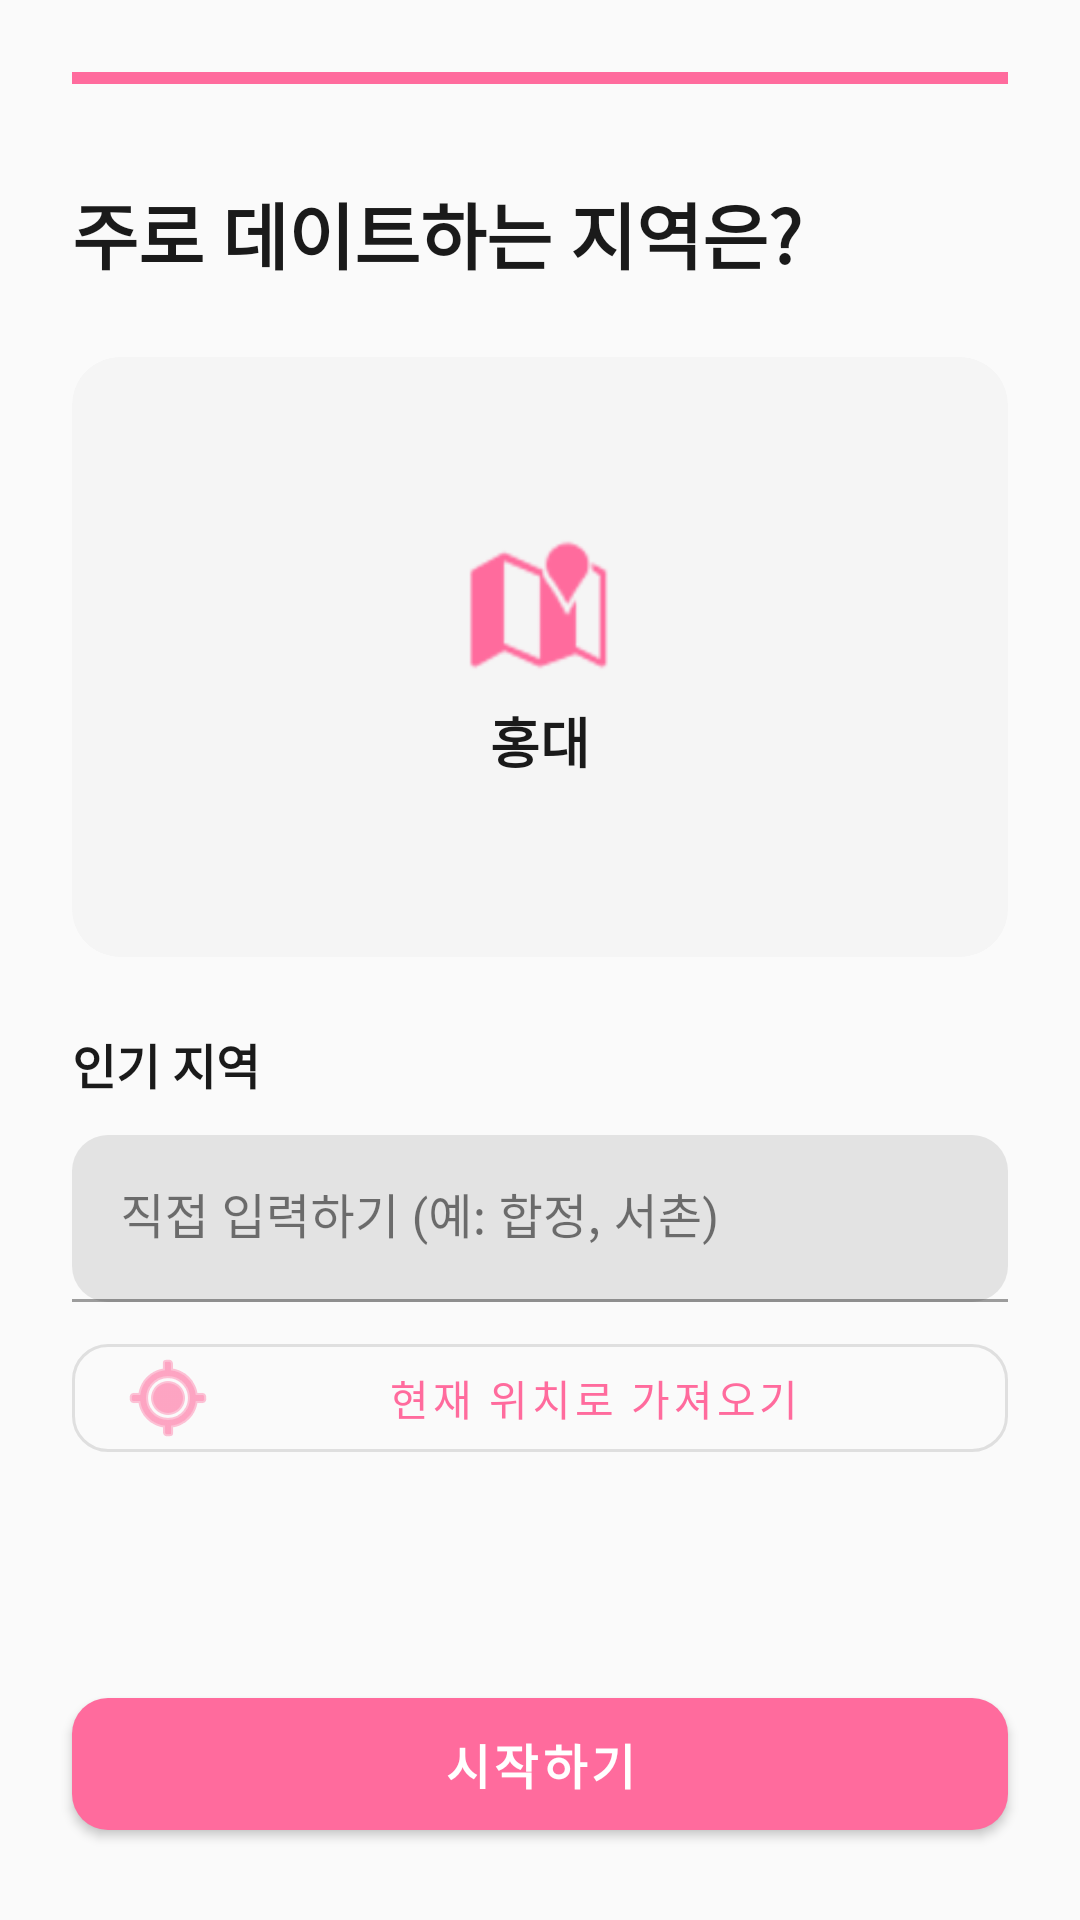

Point at icon controls on the screen. Image size 1080×1920, points as [x,y].
map: [538,605]
